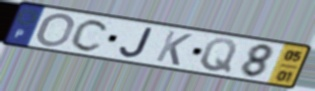8: (239, 43, 275, 79)
C: (69, 18, 112, 53)
J: (118, 26, 155, 59)
K: (153, 29, 194, 67)
O: (34, 12, 78, 48)
Q: (198, 37, 239, 75)
